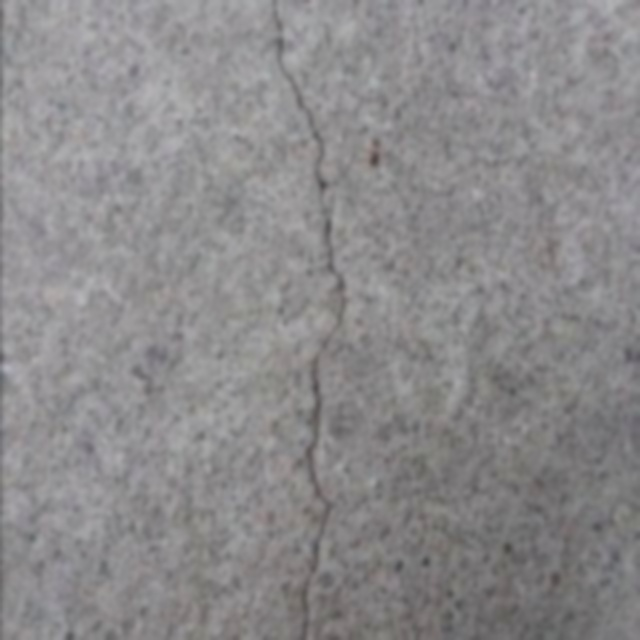SurfaceCrack: (250, 0, 346, 640)
